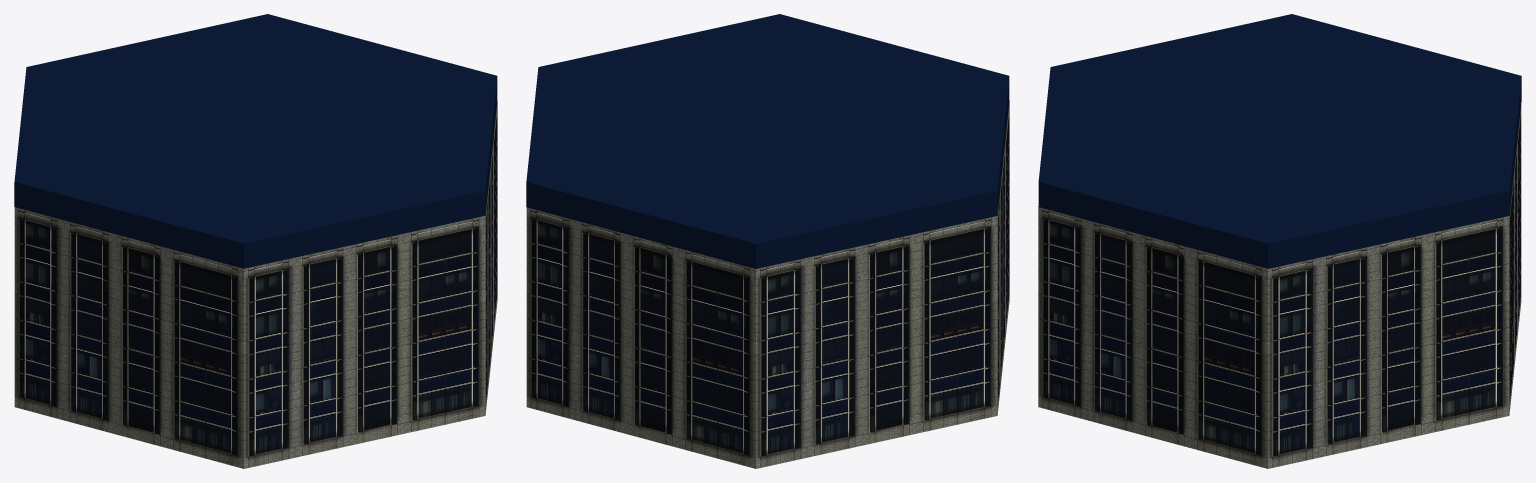
Rendered from building 3 base.FBX.
3 renders of one model, left to right at view 1: azimuth 30°, elevation 25°; view 2: azimuth 150°, elevation 25°; view 3: azimuth 270°, elevation 25°, orthographic.
Parts seen in each view (by area): view 1: Group4, Group3; view 2: Group4, Group3; view 3: Group4, Group3.
Part boxes in pixels (bbox=[...]): Group4: bbox=[14, 101, 497, 468]; Group3: bbox=[14, 14, 497, 268]; Group4: bbox=[526, 101, 1009, 468]; Group3: bbox=[526, 14, 1009, 268]; Group4: bbox=[1038, 105, 1521, 468]; Group3: bbox=[1038, 14, 1521, 268].
Bounding box in the file's own units: 480 × 219 × 427.
